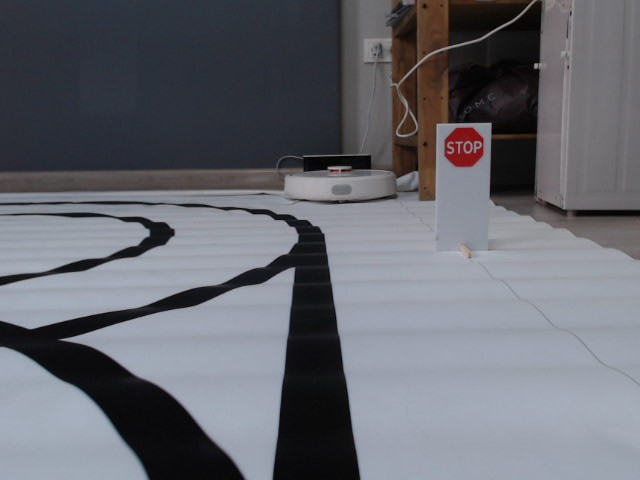Stop: (443, 126, 486, 168)
